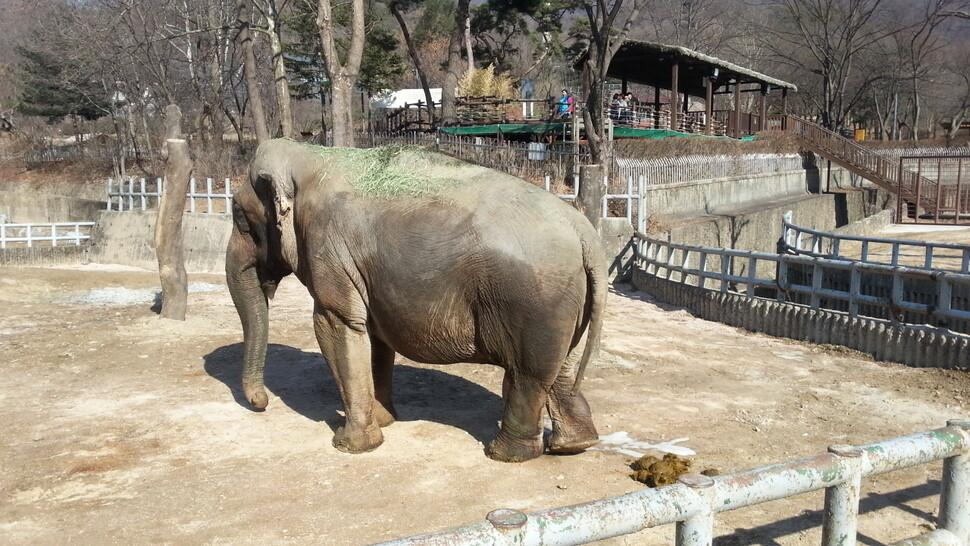elephant: (223, 135, 609, 462)
